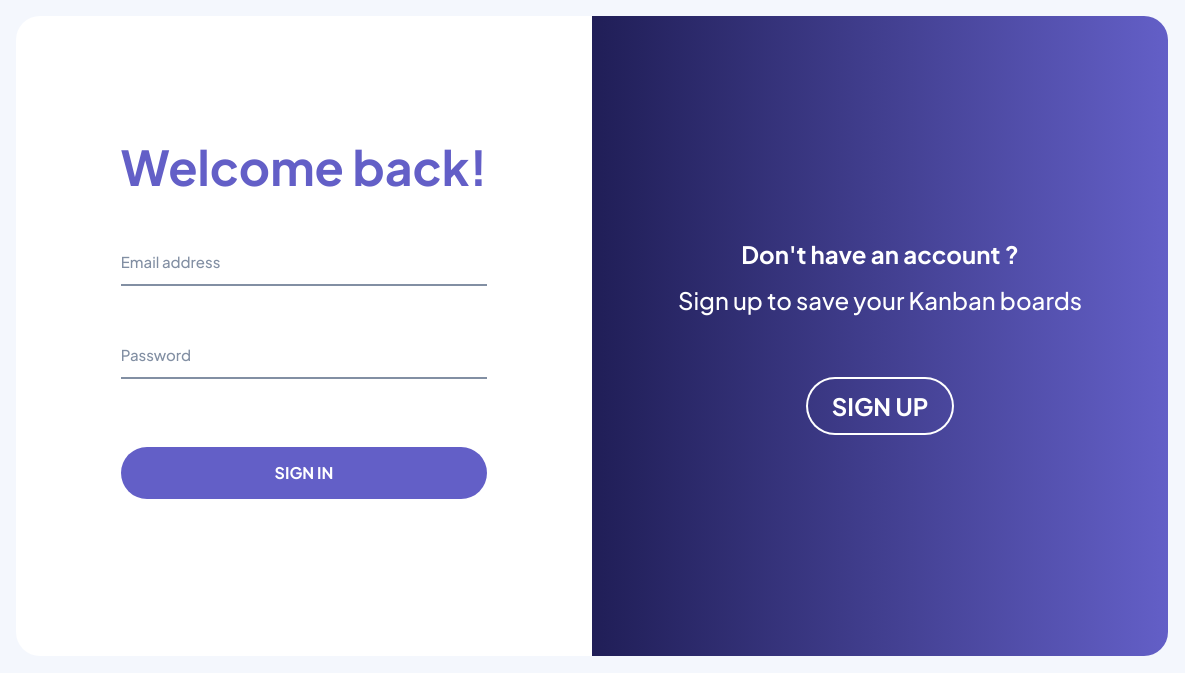
Test case: Sign up page › attempts to sign up with invalid email
// switch to sign up form
Click the button with id "signup-overlay-btn": (881, 406) [808,379,953,433]
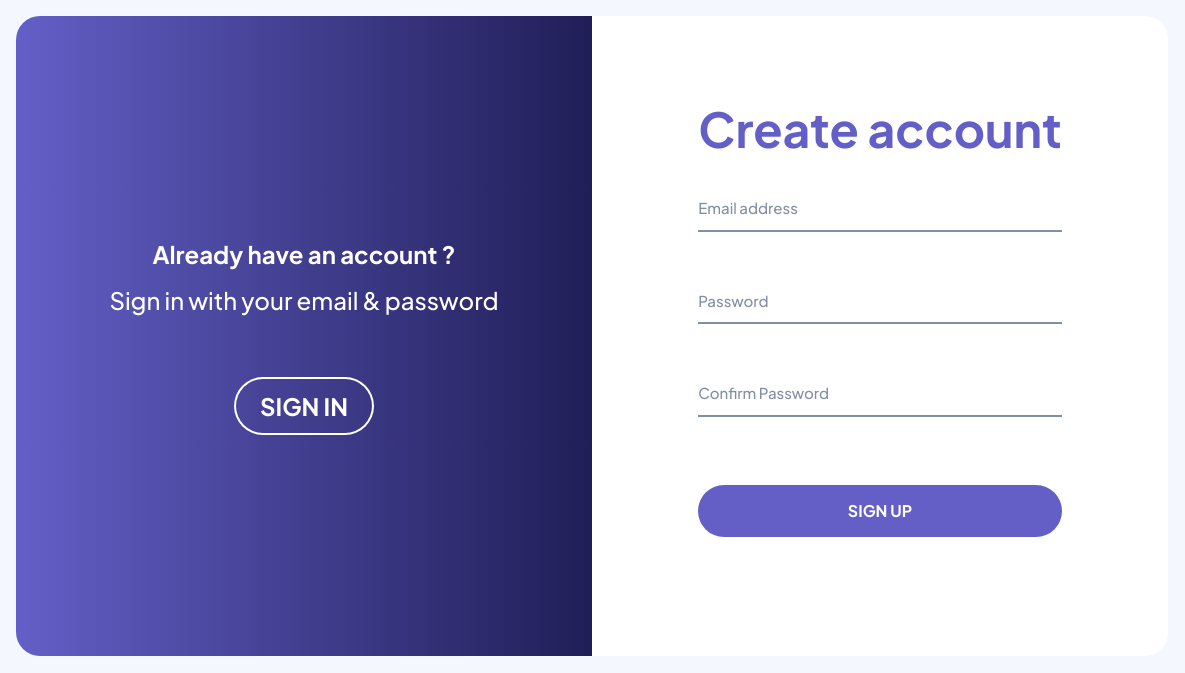
// enter invalid email and password
In the field with id "signup-email": (880, 212) [698,191,1062,232], type "invalidEmail"
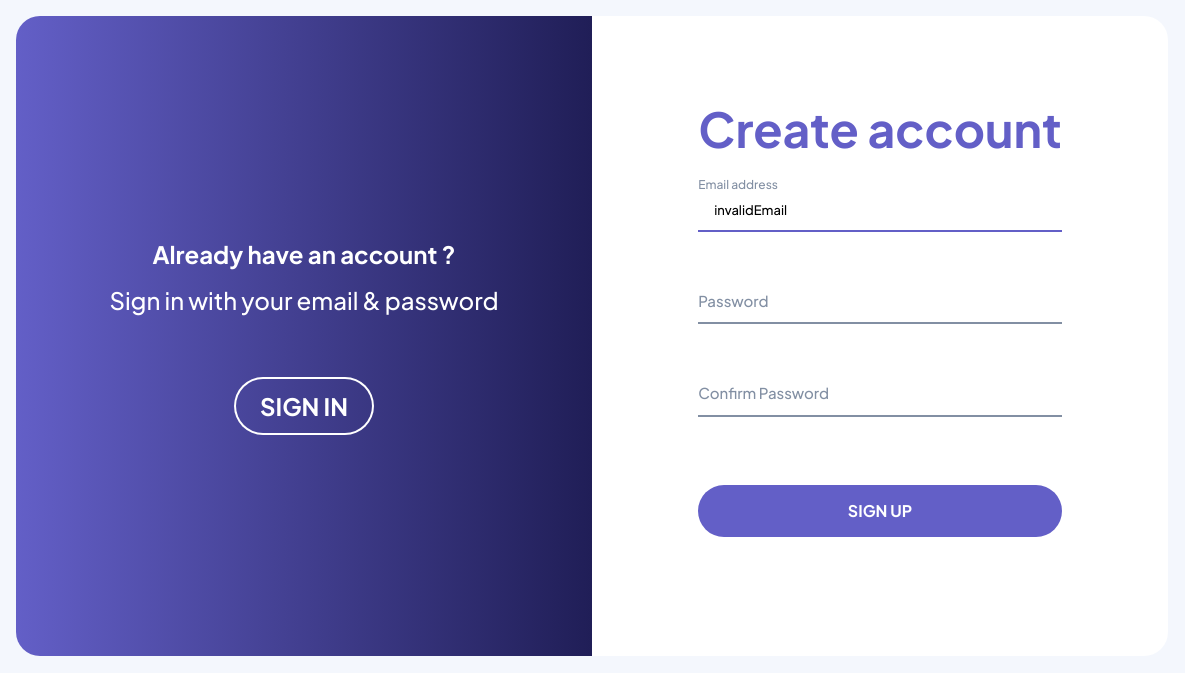
In the password field with id "signup-password": (880, 305) [698,284,1062,325], type "password"
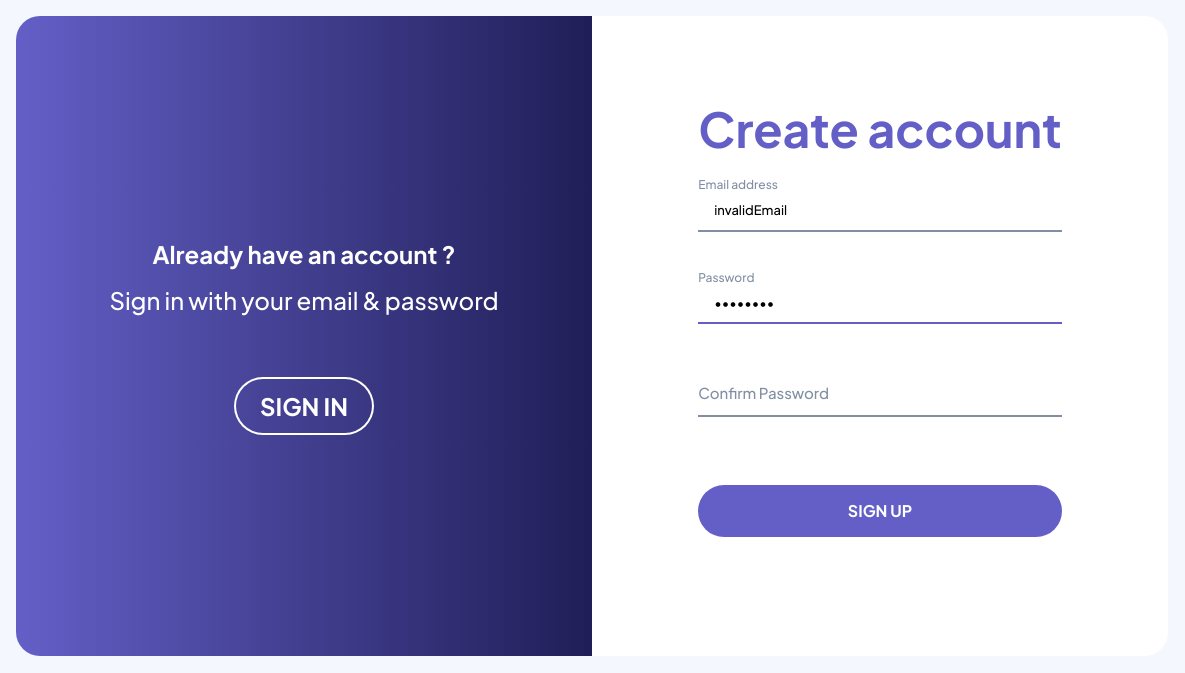
In the password field with id "signup-password-confirmation": (880, 397) [698,376,1062,417], type "password"
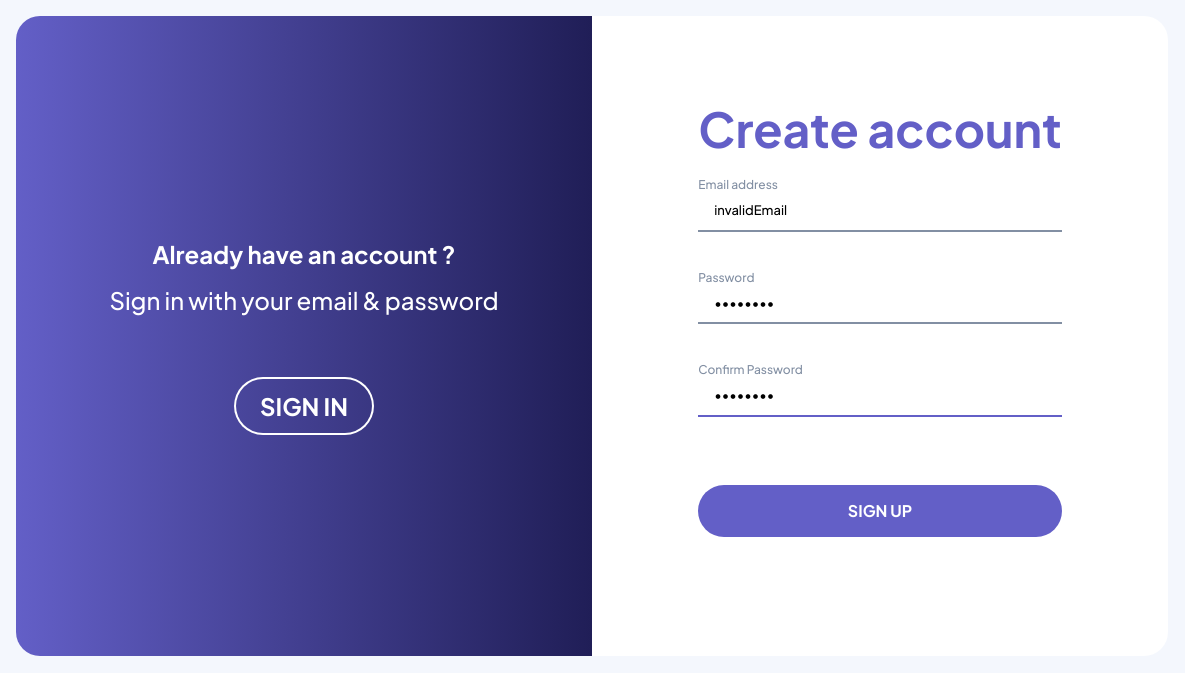
// click the sign up button
Click the button "Sign Up": (880, 511) [698,485,1062,537]
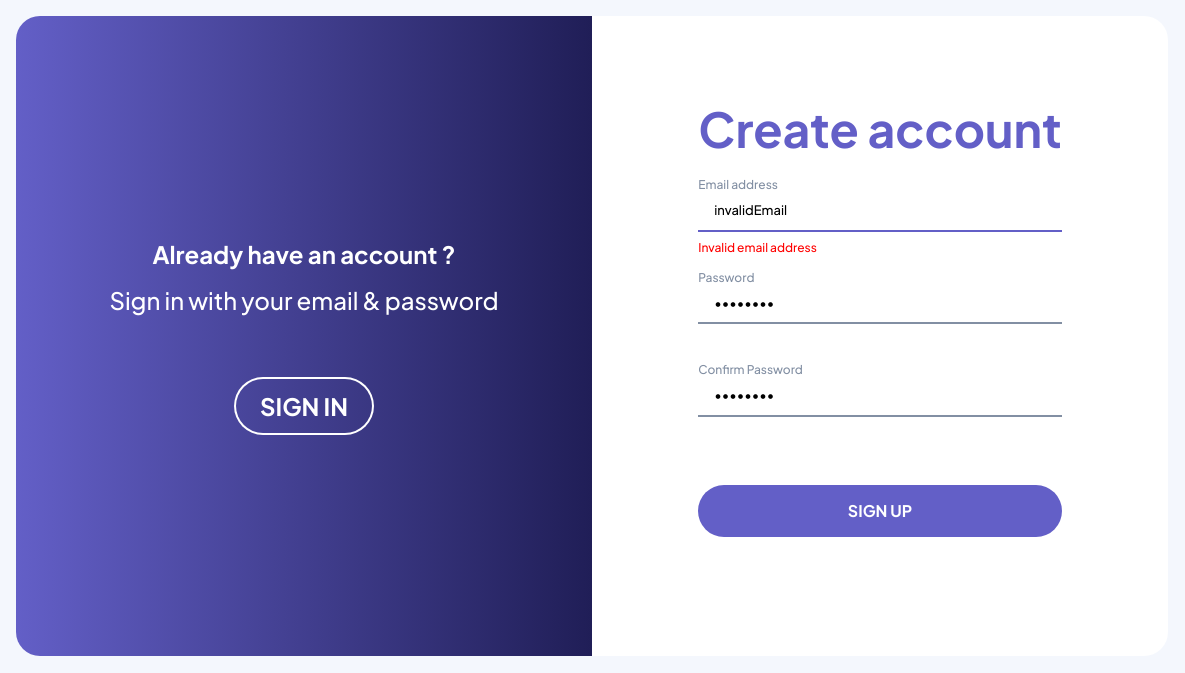
expect the text "Invalid email address" is shown: met, box [698,240,817,255]
